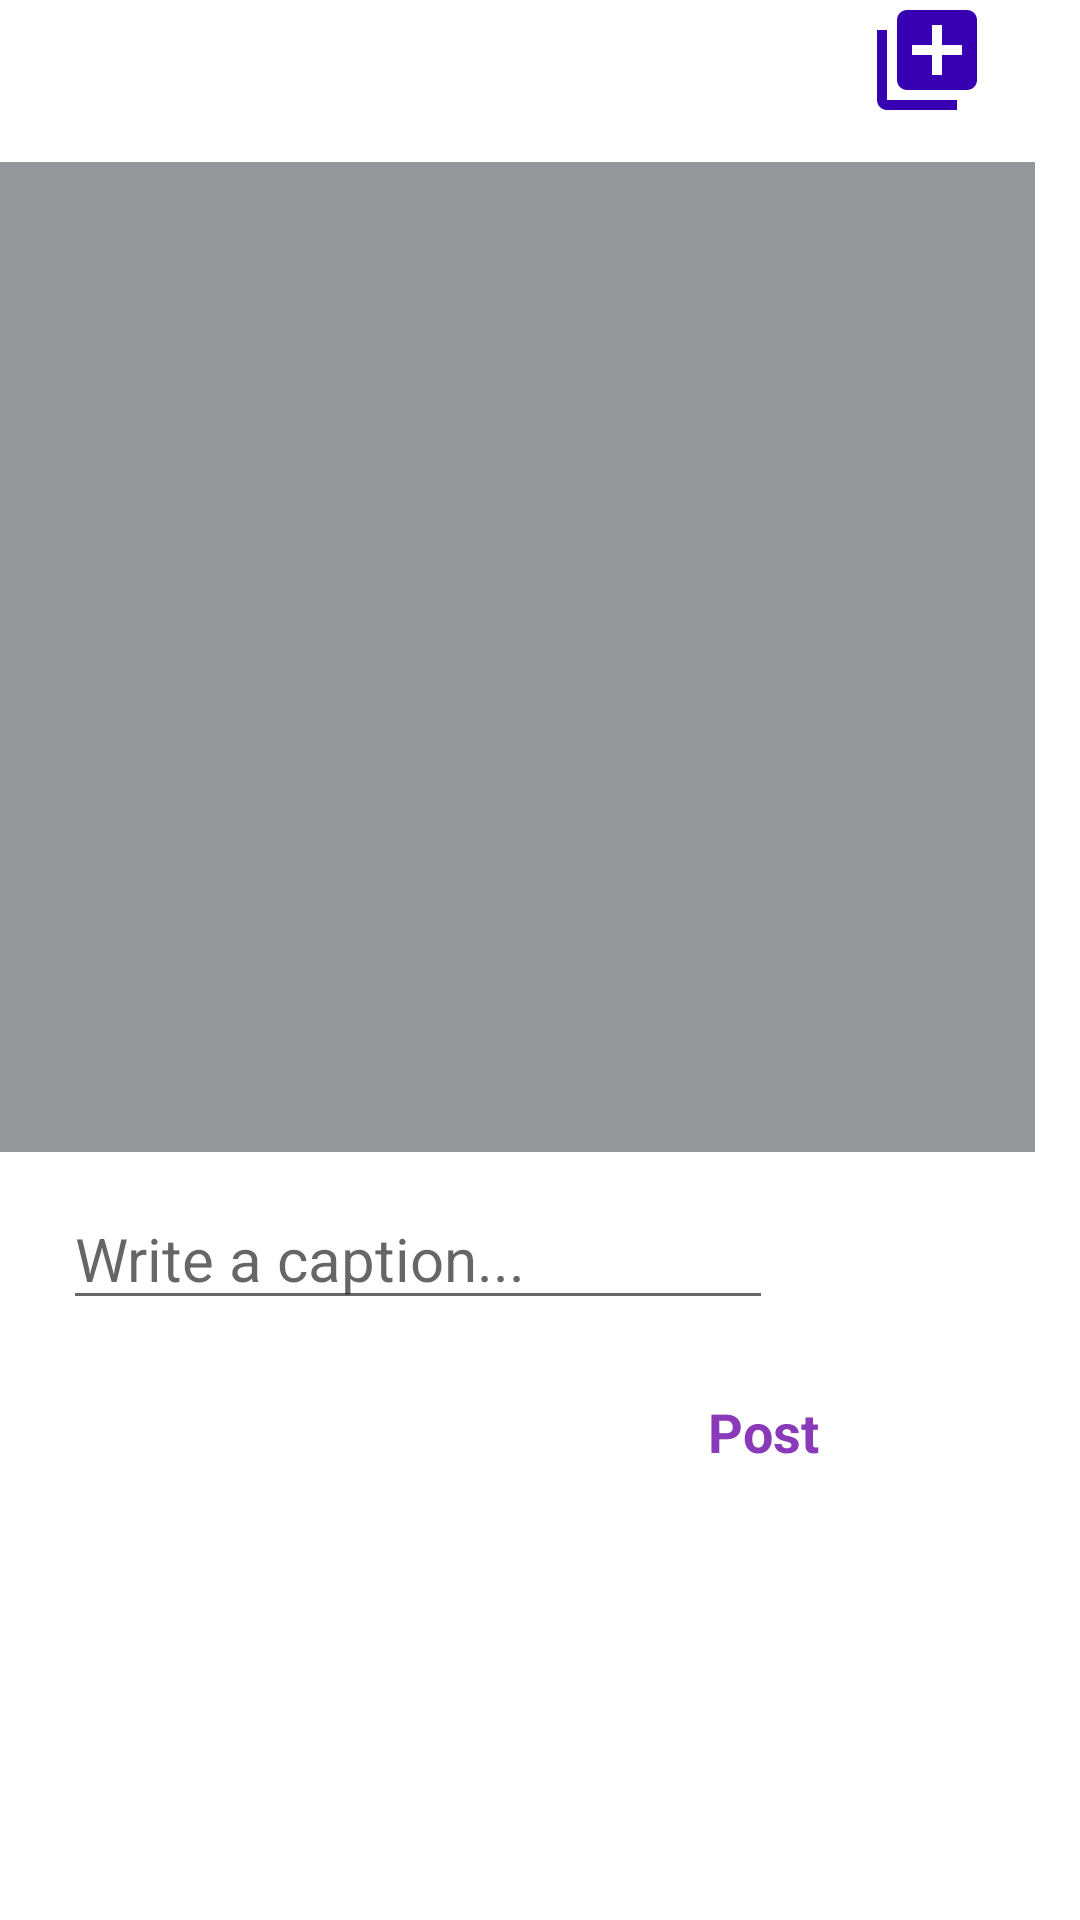

Named icons in this screenshot (1080px x 1920px) and their bounding boxes, (x1=x1, y1=y1, x2=x2, y2=y2):
add to photos: (x1=877, y1=10, x2=977, y2=110)
